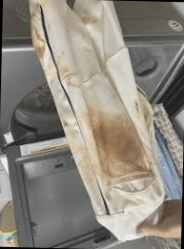earth: (96, 126, 135, 163), (38, 47, 45, 58)
